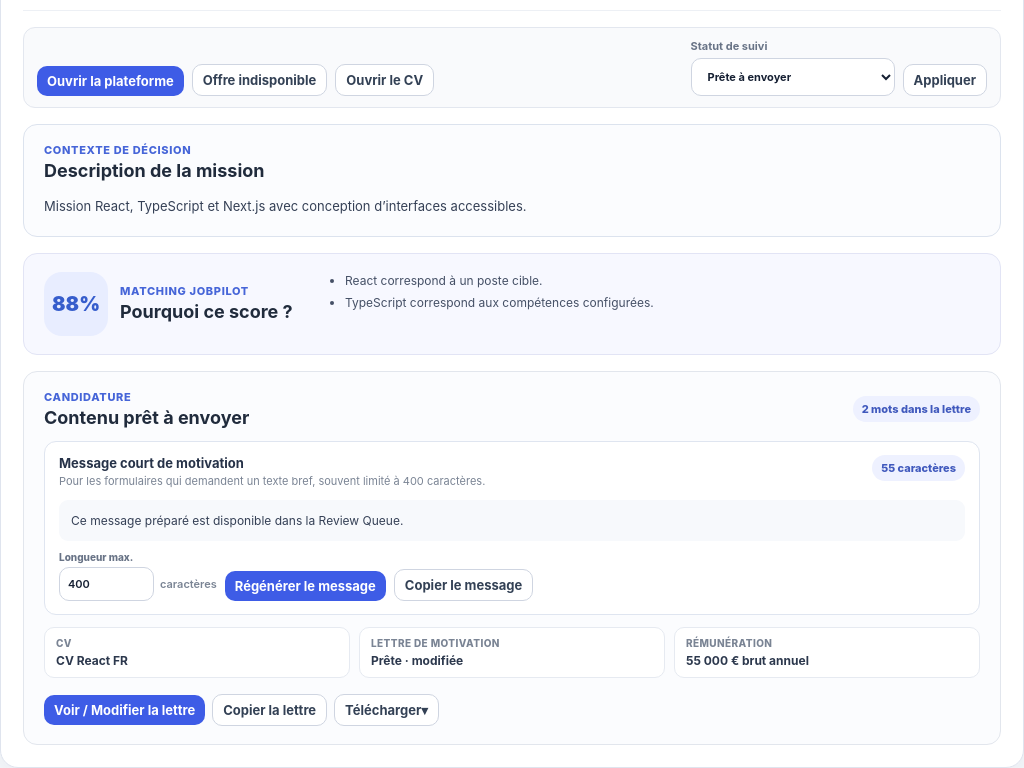
Test: ReviewQueueApplicationCard › resets a manual cover letter to the latest generated version from the drawer
(page scrolled)
What coordinates should you click on to do the following:
click the button "Voir / Modifier la lettre"
I would click on:
 (125, 710)
Its box is x1=44 y1=695 x2=205 y2=725.
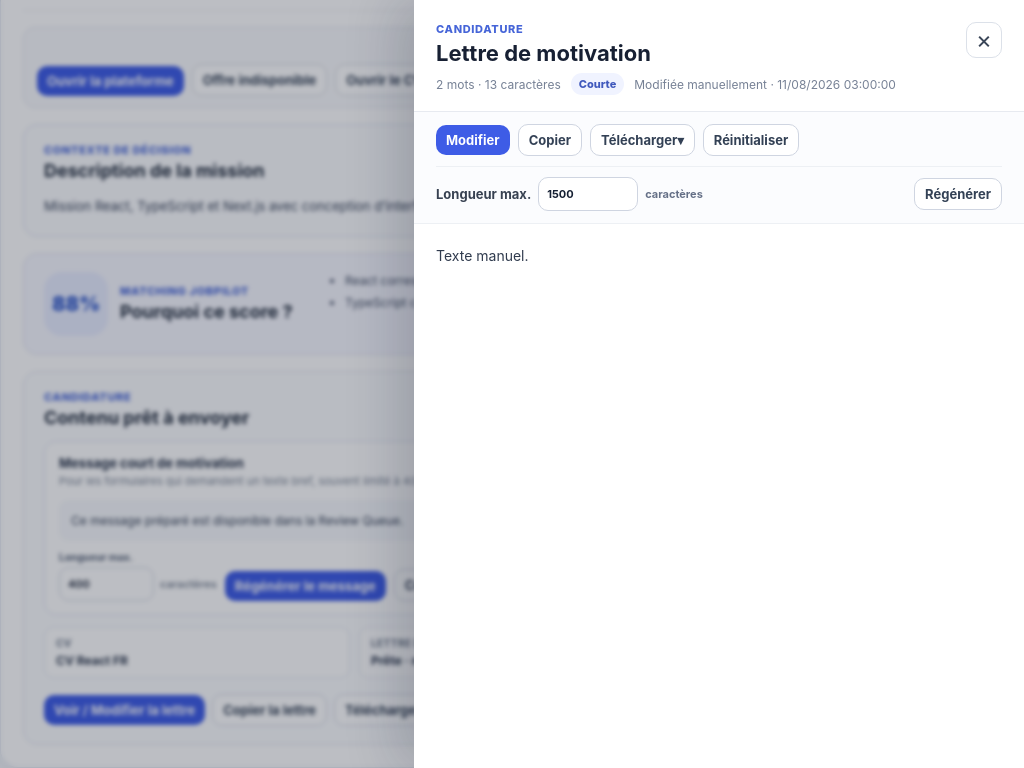
What coordinates should you click on to do the following:
click the button "Réinitialiser"
I would click on:
 (751, 140)
Its box is x1=703 y1=124 x2=799 y2=156.
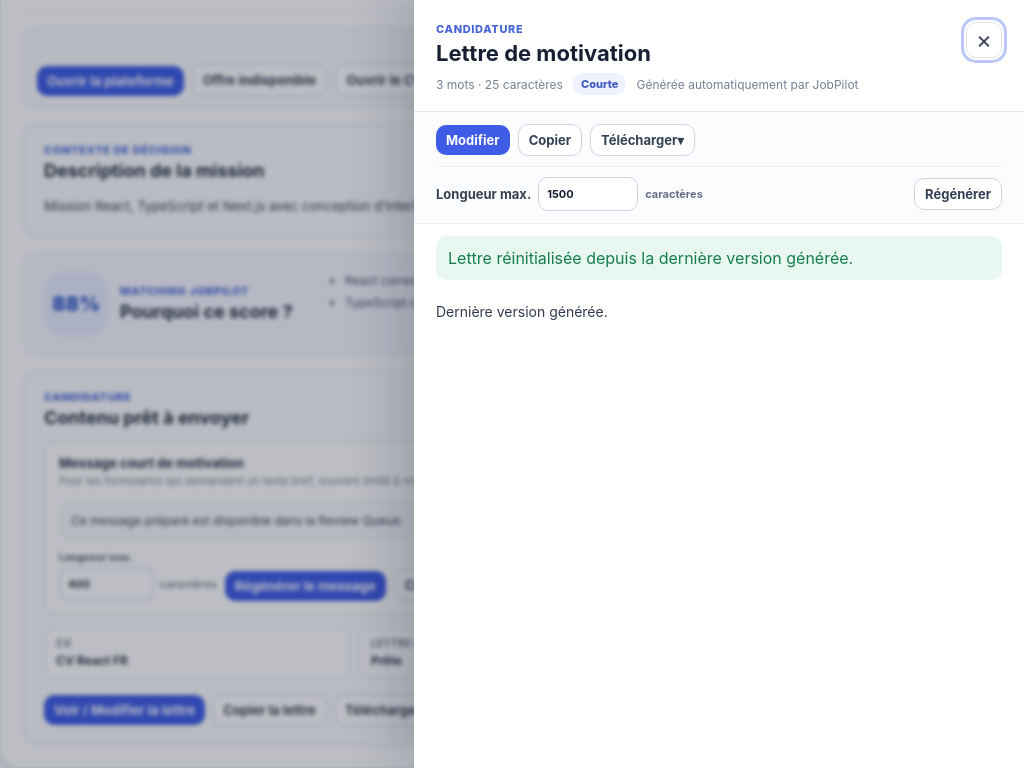
Expected: the text "Dernière version générée." is shown, x1=436 y1=303 x2=608 y2=320
Expected: the text "Générée automatiquement par JobPilot" is shown, x1=636 y1=77 x2=859 y2=92
